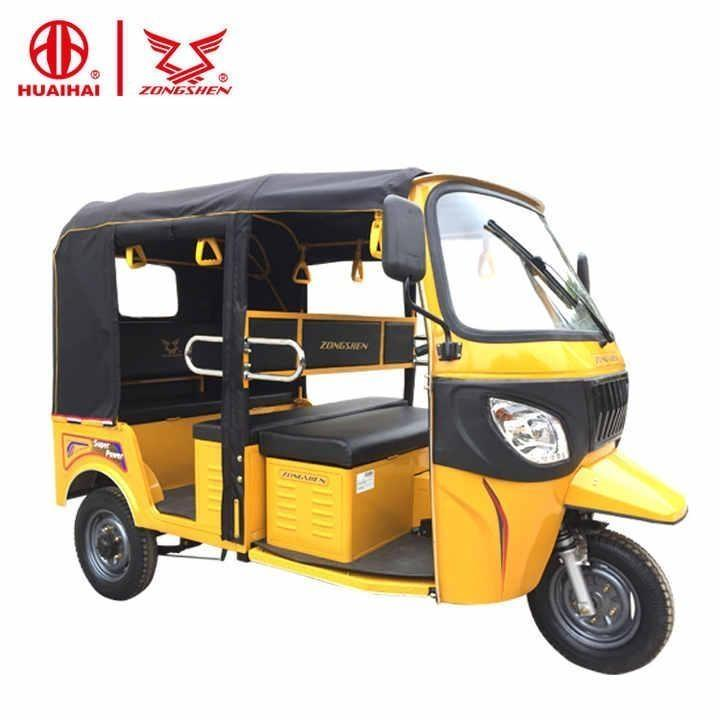keke: (56, 163, 691, 690)
